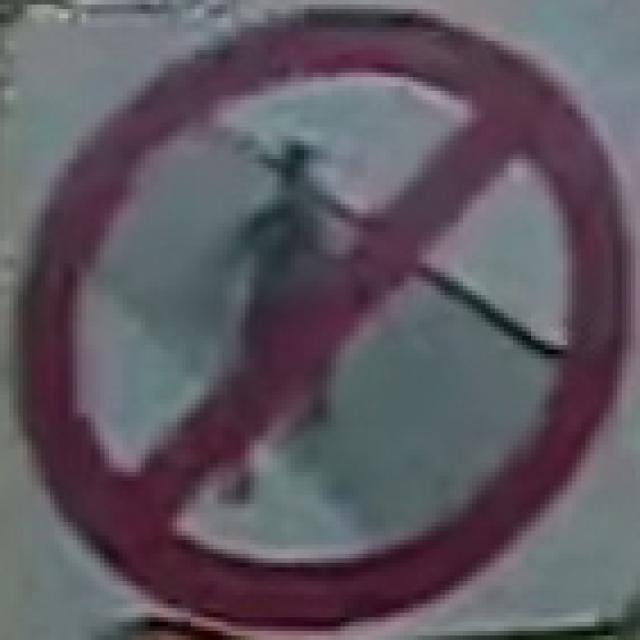nojaywalking_sign: (4, 0, 635, 635)
